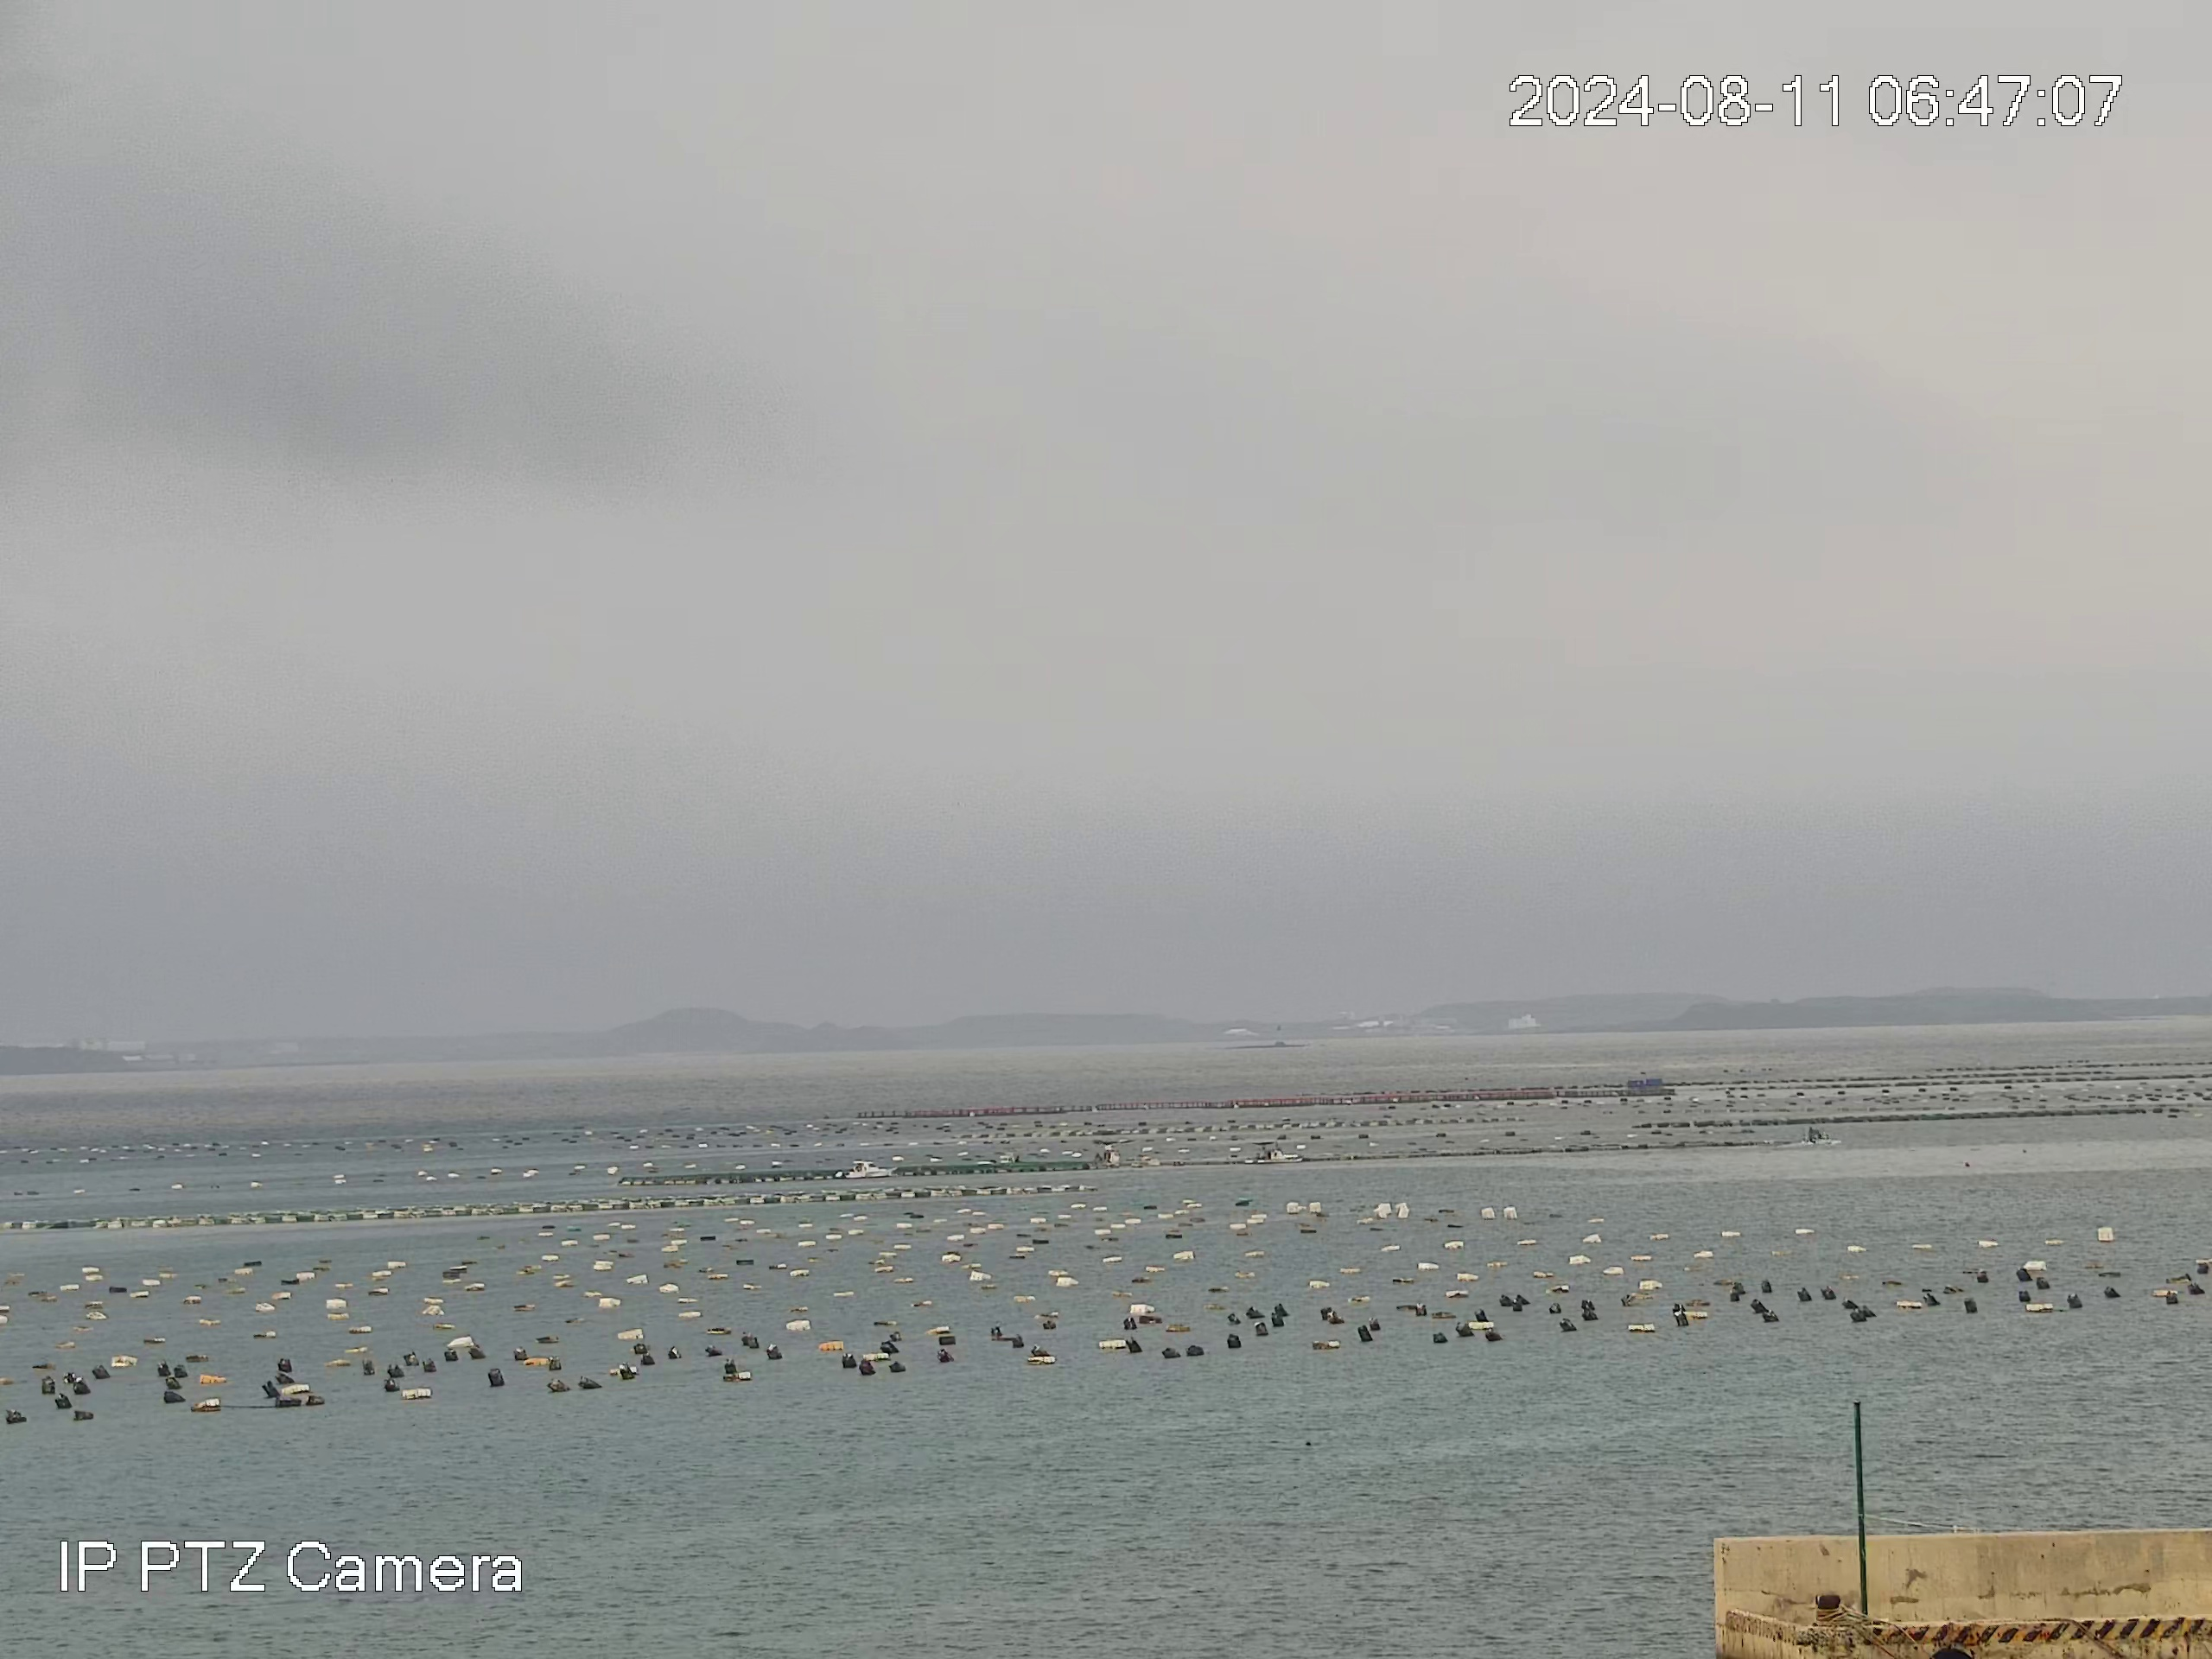boat: (1242, 1140, 1303, 1164), (833, 1159, 888, 1178)
